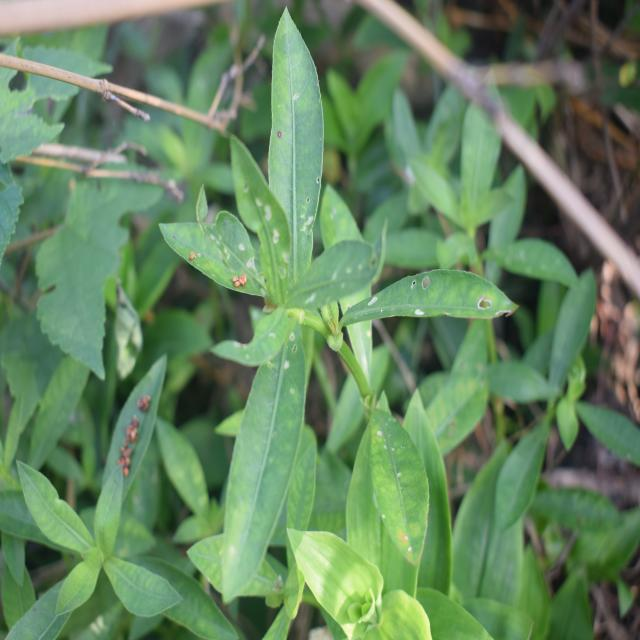Alligatorweed: (182, 41, 448, 547)
